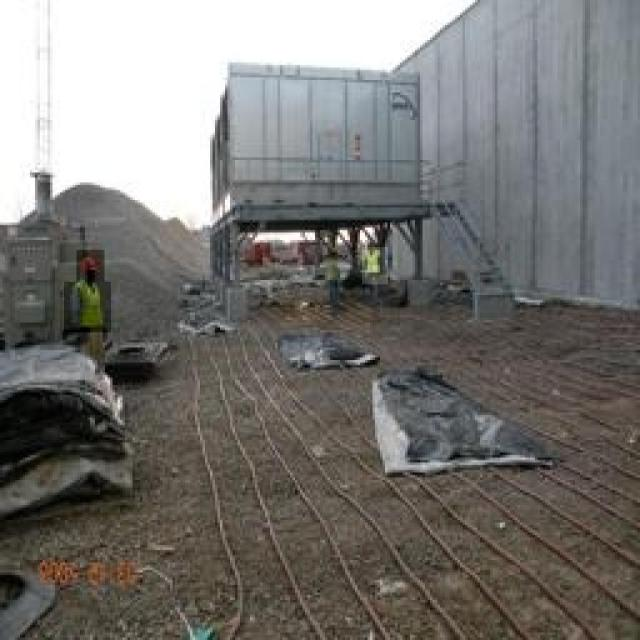Helmet: (76, 250, 105, 284)
Safety Vest: (64, 282, 111, 332), (362, 247, 388, 285)
